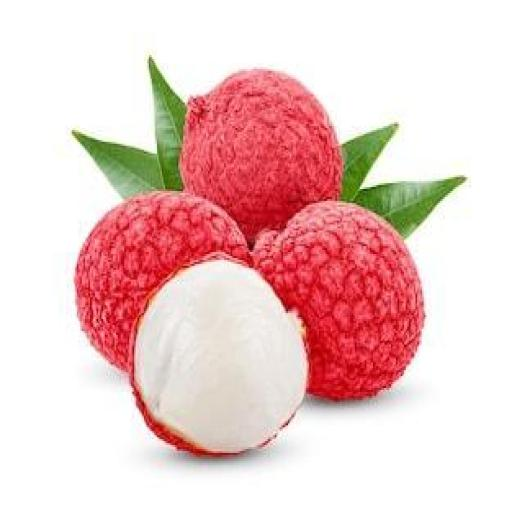lychee: (131, 255, 307, 454), (254, 201, 423, 399), (76, 192, 250, 370), (180, 69, 341, 242)
